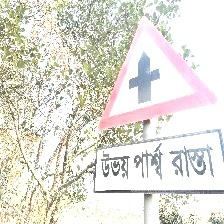Crossroad: (94, 15, 223, 200)
